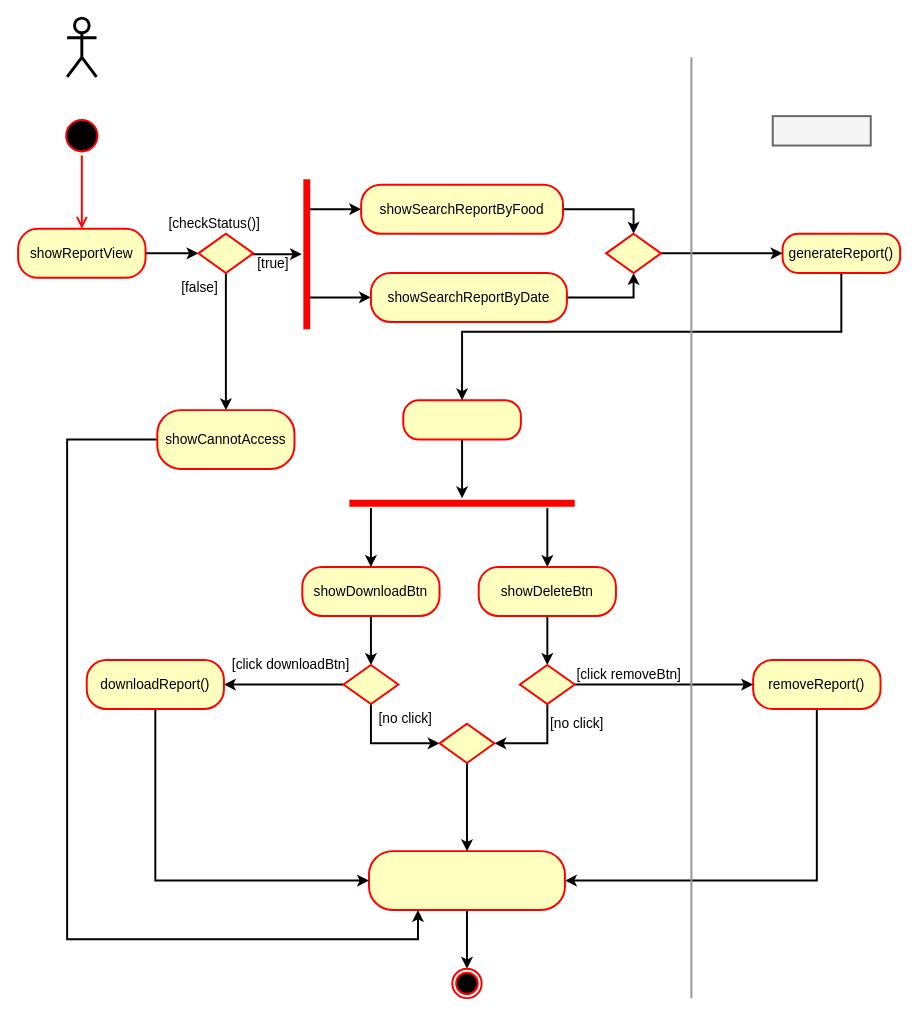
Image size: 917x1017. Some labels were removed from this diagram. Here are the shapes that lost their labels. From the top down, the centre of each, then its label:
At point (81, 47): "Vendor/Manager".
At point (821, 130): "Database".
At point (461, 419): "showReport".
At point (466, 880): "showBackToMainUI".
